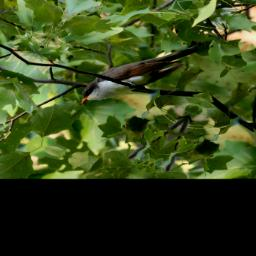Cuckoo: (72, 17, 208, 123)
